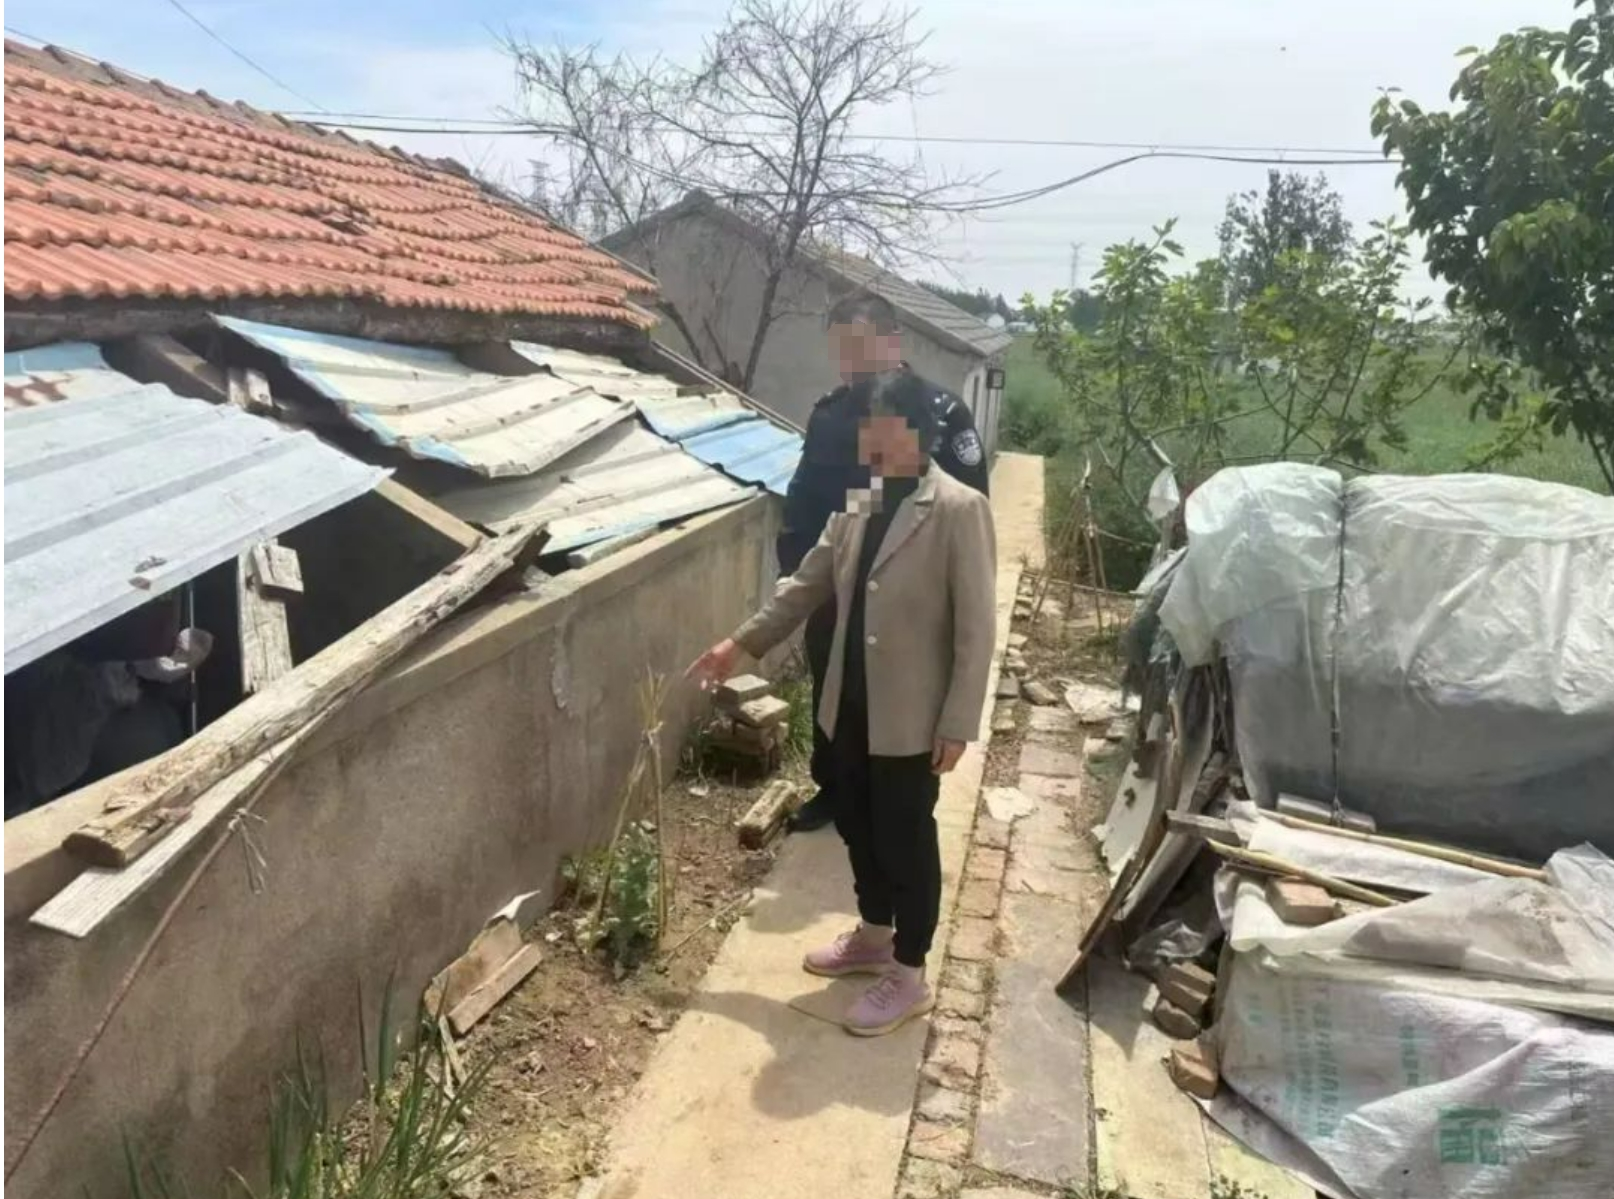Poppy: (580, 796, 679, 972)
